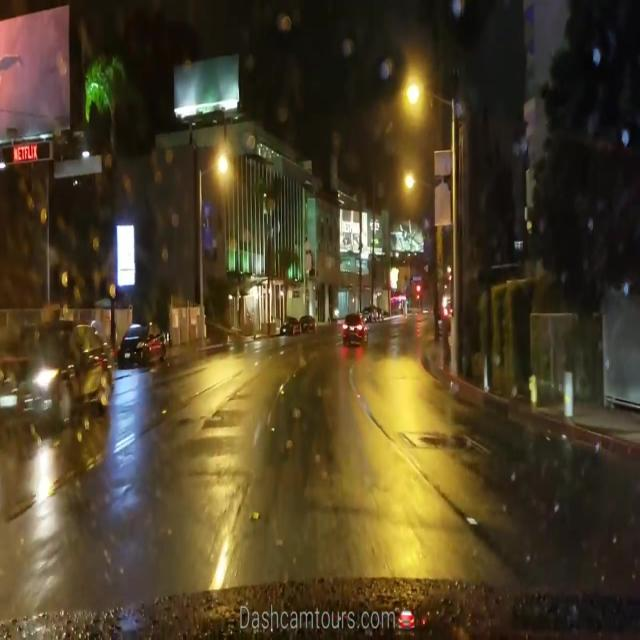Car: (6, 323, 109, 429), (118, 317, 165, 366), (340, 312, 365, 345)
